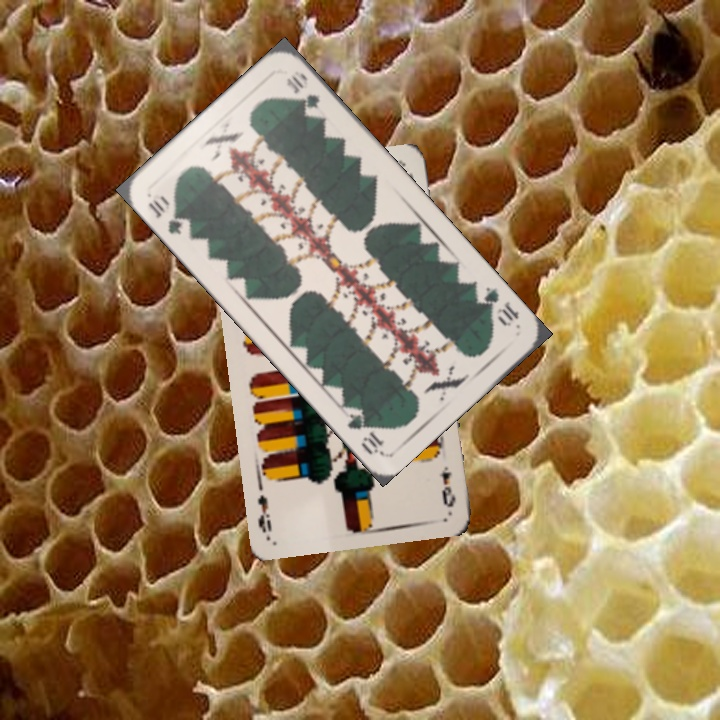E9: (436, 462, 458, 510)
G10: (471, 282, 522, 330), (144, 195, 187, 238)
